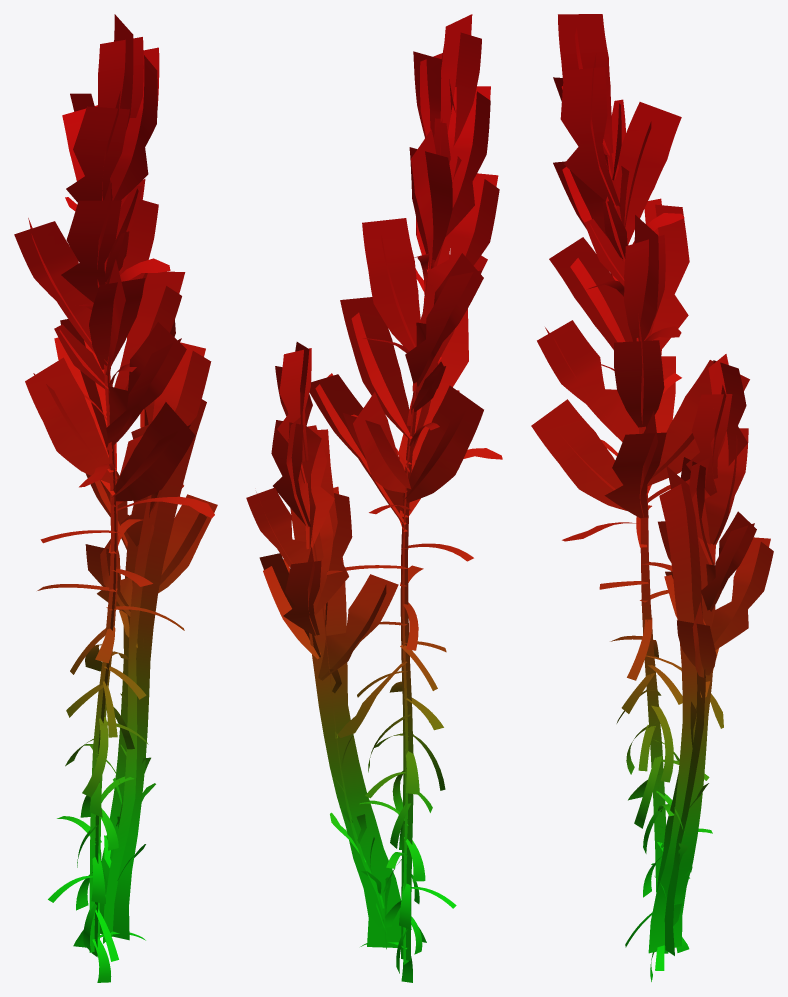
Rendered from F01_Seaweed_05.fbx.
The picture shows the model from 3 angles, left to right: view 1: azimuth 30°, elevation 25°; view 2: azimuth 150°, elevation 25°; view 3: azimuth 270°, elevation 25°; orthographic projection. The views are drawn at different scales.
Parts seen in each view (by area): view 1: _4f12_Var5_LOD0; view 2: _4f12_Var5_LOD0; view 3: _4f12_Var5_LOD0.
Part boxes in pixels (x1,y1,x2,y2): _4f12_Var5_LOD0: [14, 14, 217, 982]; _4f12_Var5_LOD0: [246, 14, 502, 982]; _4f12_Var5_LOD0: [531, 14, 773, 981].
Size of the model in its own units: 21.75 by 93.69 by 21.51.
